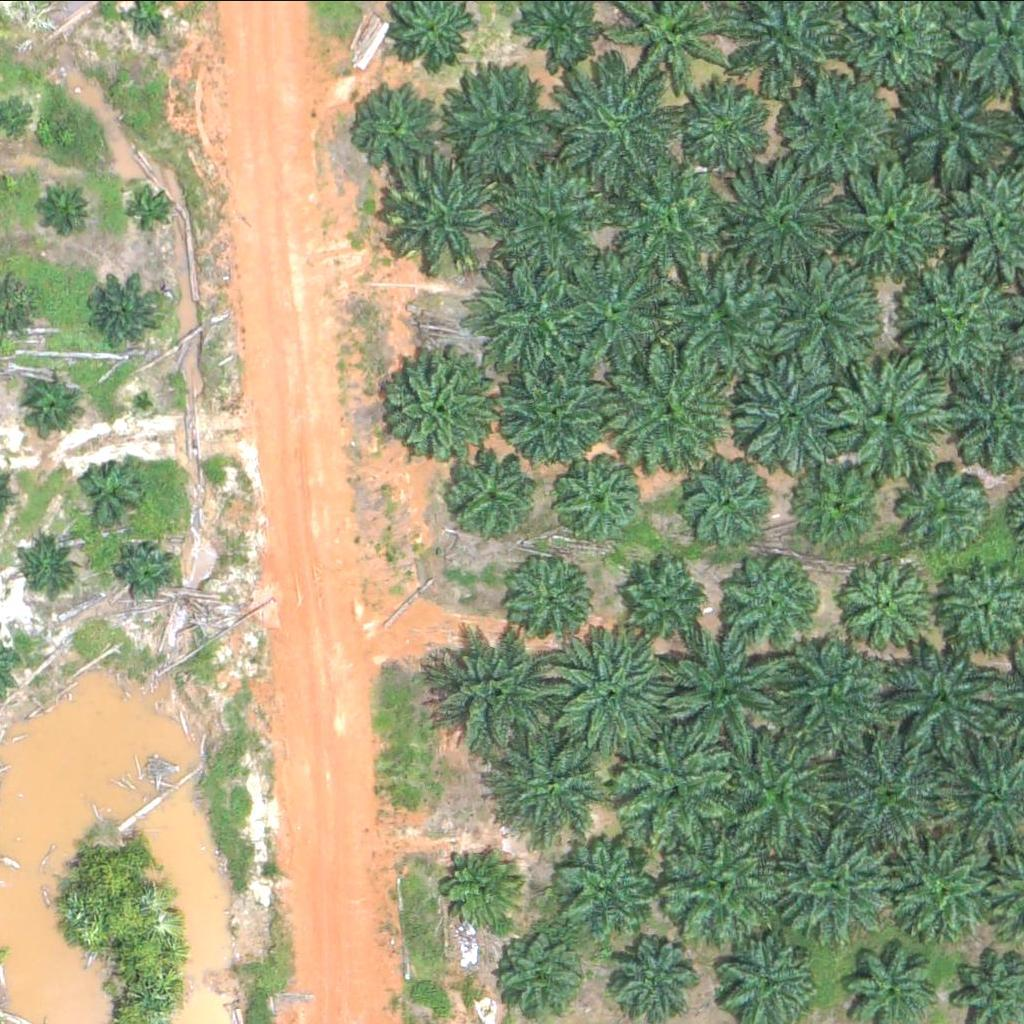Kelapa_Sawit: (378, 149, 504, 274), (486, 157, 612, 282), (614, 152, 740, 277), (726, 152, 852, 277), (836, 158, 962, 283), (896, 258, 1022, 383), (663, 251, 789, 376), (555, 246, 681, 371), (475, 252, 601, 377), (495, 348, 621, 473), (724, 349, 850, 474), (829, 353, 955, 478), (878, 639, 1004, 764), (428, 626, 554, 751), (549, 631, 675, 756), (661, 630, 787, 755), (776, 626, 902, 751), (484, 717, 610, 842), (609, 722, 735, 847), (712, 729, 838, 854), (825, 728, 951, 853), (658, 820, 784, 945), (557, 67, 683, 192), (783, 67, 909, 192), (890, 70, 1016, 195), (766, 254, 891, 379), (606, 337, 731, 462), (436, 63, 561, 188), (381, 355, 495, 468), (875, 831, 988, 943), (774, 831, 887, 943), (726, 550, 827, 650), (836, 555, 937, 655), (556, 835, 657, 935), (497, 548, 597, 648), (895, 466, 983, 554), (676, 455, 764, 543), (497, 925, 585, 1013), (682, 79, 770, 167), (794, 456, 882, 543), (553, 449, 641, 536), (454, 450, 542, 537), (626, 556, 714, 643), (440, 846, 528, 933), (616, 932, 704, 1019), (359, 83, 447, 170), (86, 274, 162, 349), (73, 460, 149, 535), (21, 539, 84, 602), (22, 372, 85, 435), (118, 540, 181, 603), (43, 186, 93, 236), (124, 180, 174, 230)
